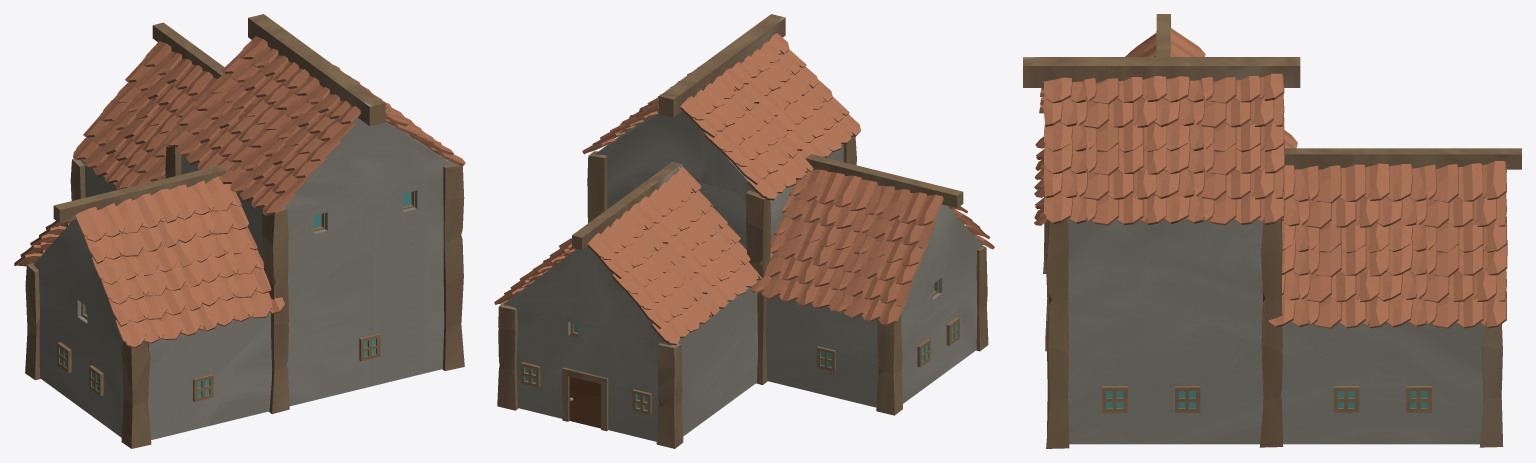
The model's file is HouseRegular.fbx.
The picture shows the model from 3 angles, left to right: view 1: azimuth 30°, elevation 25°; view 2: azimuth 150°, elevation 25°; view 3: azimuth 270°, elevation 25°; orthographic projection. The views are drawn at different scales.
Visible parts, largest first — view 1: HouseRegular_LOD0; view 2: HouseRegular_LOD0; view 3: HouseRegular_LOD0.
Part boxes in pixels (x1,y1,x2,y2): HouseRegular_LOD0: (14, 14, 465, 448); HouseRegular_LOD0: (494, 14, 994, 448); HouseRegular_LOD0: (1023, 14, 1521, 448).
Size of what is drawn, in the model's own units: 1345 by 1041 by 1411.
